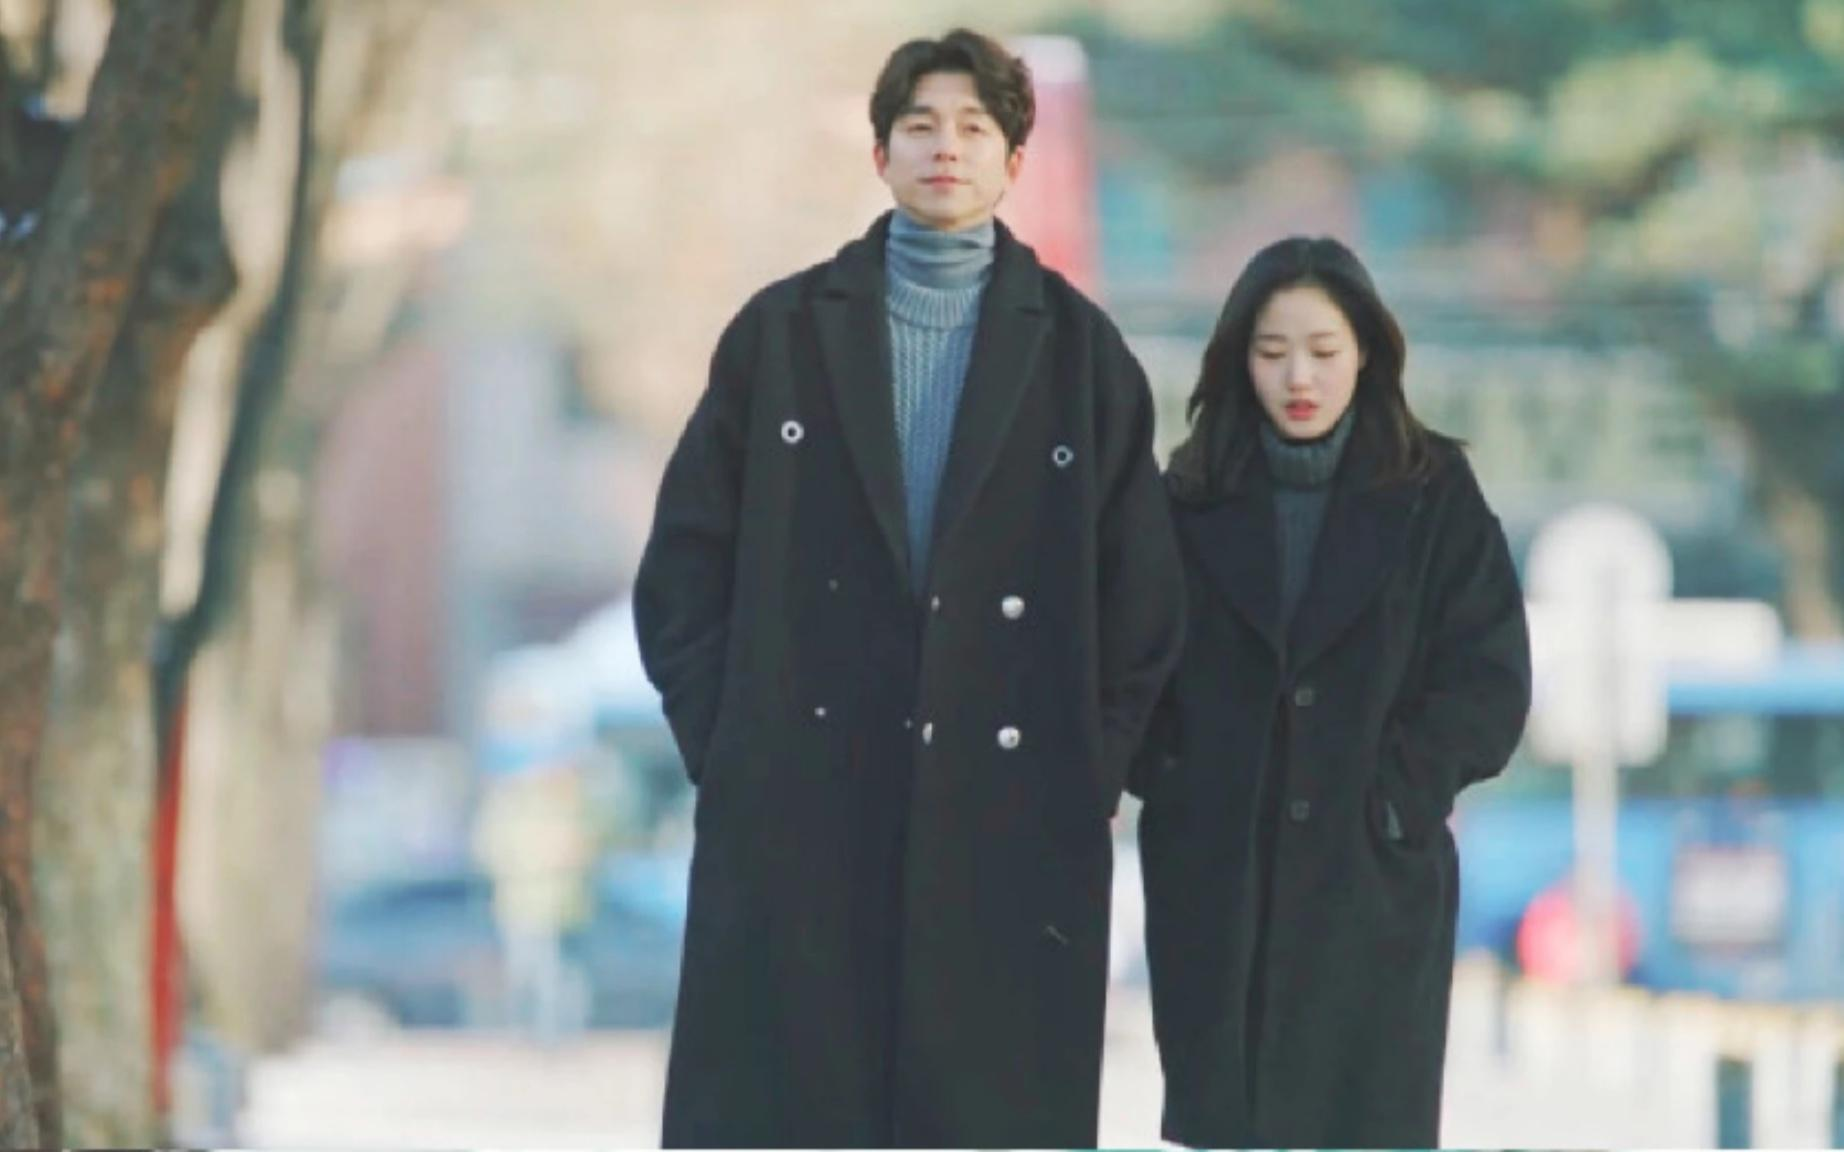up: (631, 24, 1177, 1152), (1144, 230, 1526, 1152)
